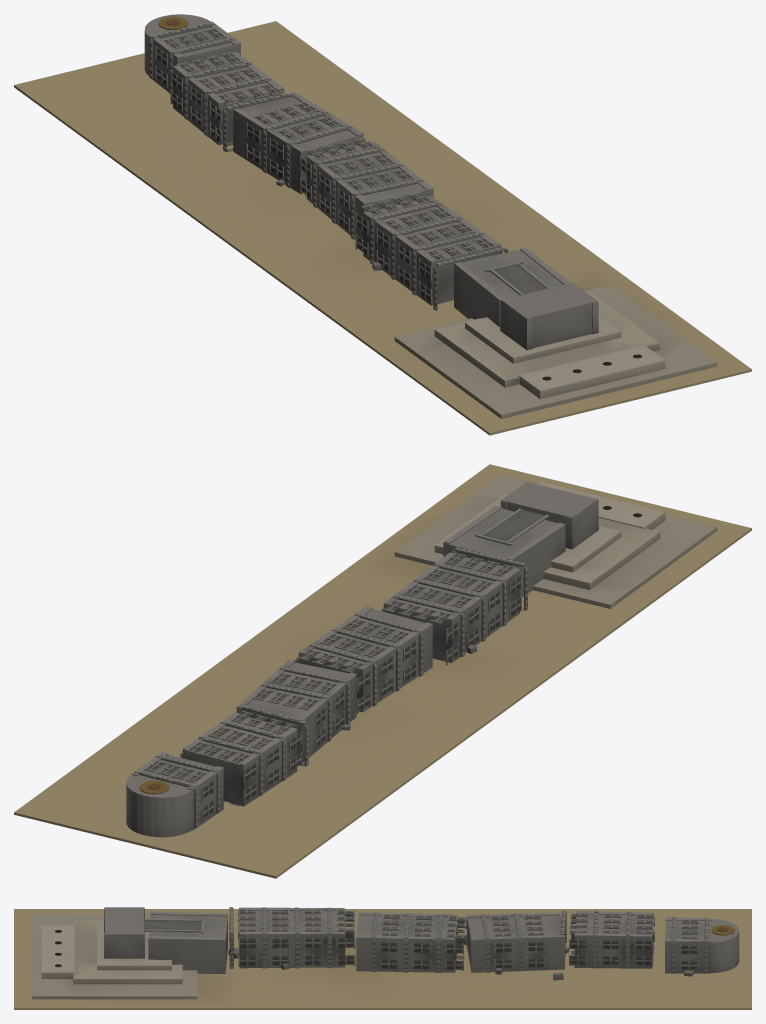
Rendered from great-stele-fallen.glb.
The picture shows the model from 3 angles, top to bottom: view 1: azimuth 30°, elevation 25°; view 2: azimuth 150°, elevation 25°; view 3: azimuth 270°, elevation 25°; orthographic projection. The views are drawn at different scales.
Visible parts, largest first — view 1: p0_platform, p1_stele; view 2: p0_platform, p1_stele; view 3: p0_platform, p1_stele.
Part boxes in pixels (bbox=[...]): p0_platform: bbox=[14, 21, 751, 435]; p1_stele: bbox=[144, 14, 598, 350]; p0_platform: bbox=[14, 464, 751, 878]; p1_stele: bbox=[126, 481, 598, 837]; p0_platform: bbox=[14, 909, 751, 1009]; p1_stele: bbox=[104, 907, 739, 973].
Bounding box in the file's own units: 14 × 2.62 × 44.
